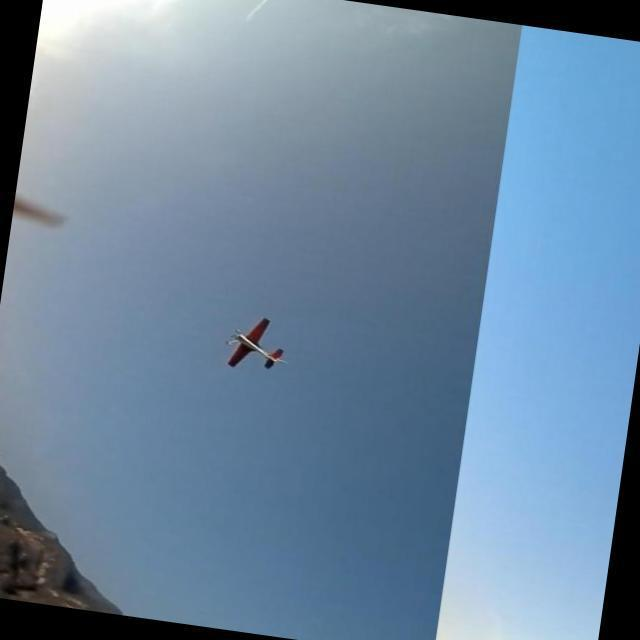iha: (243, 313, 277, 337)
